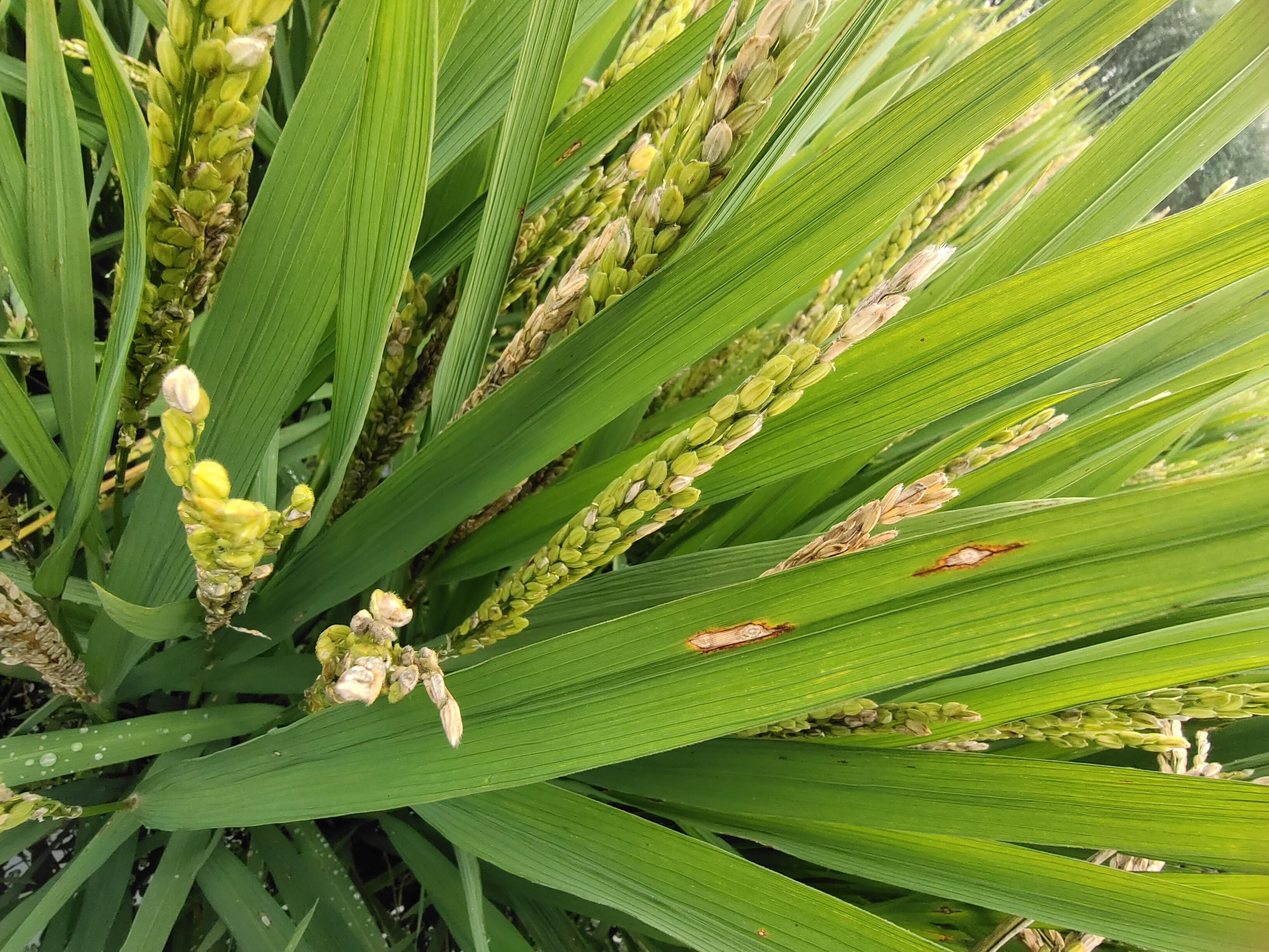LEAF BLAST: (914, 543, 1022, 576), (688, 622, 793, 653)
